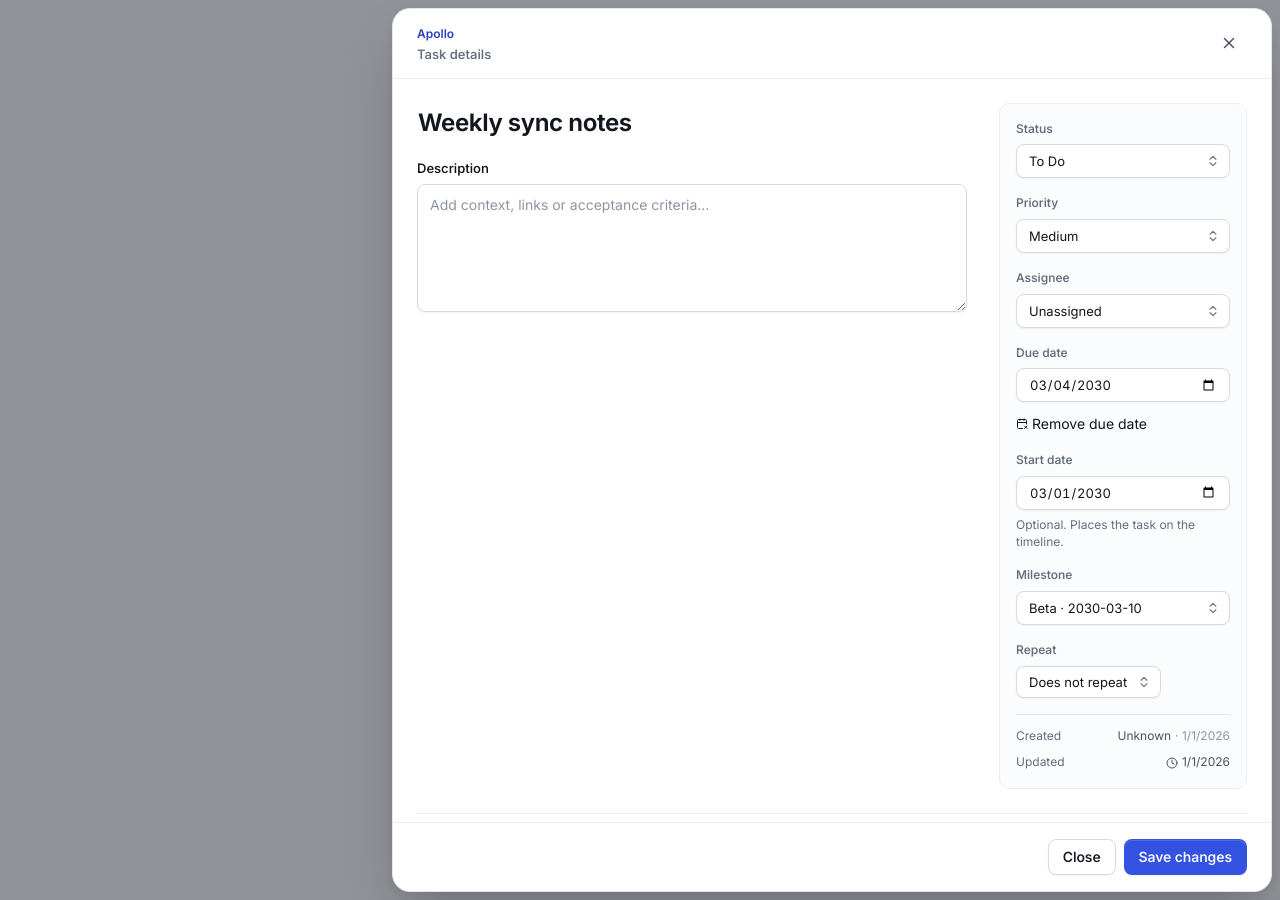
Test: TaskModal planning fields › checks dates before sending: due on or after start, and repeating tasks need a due date
In the date field labelled "Start date": {"x": 1123, "y": 493} x1=1016 y1=476 x2=1230 y2=510, type "2030-03-09"
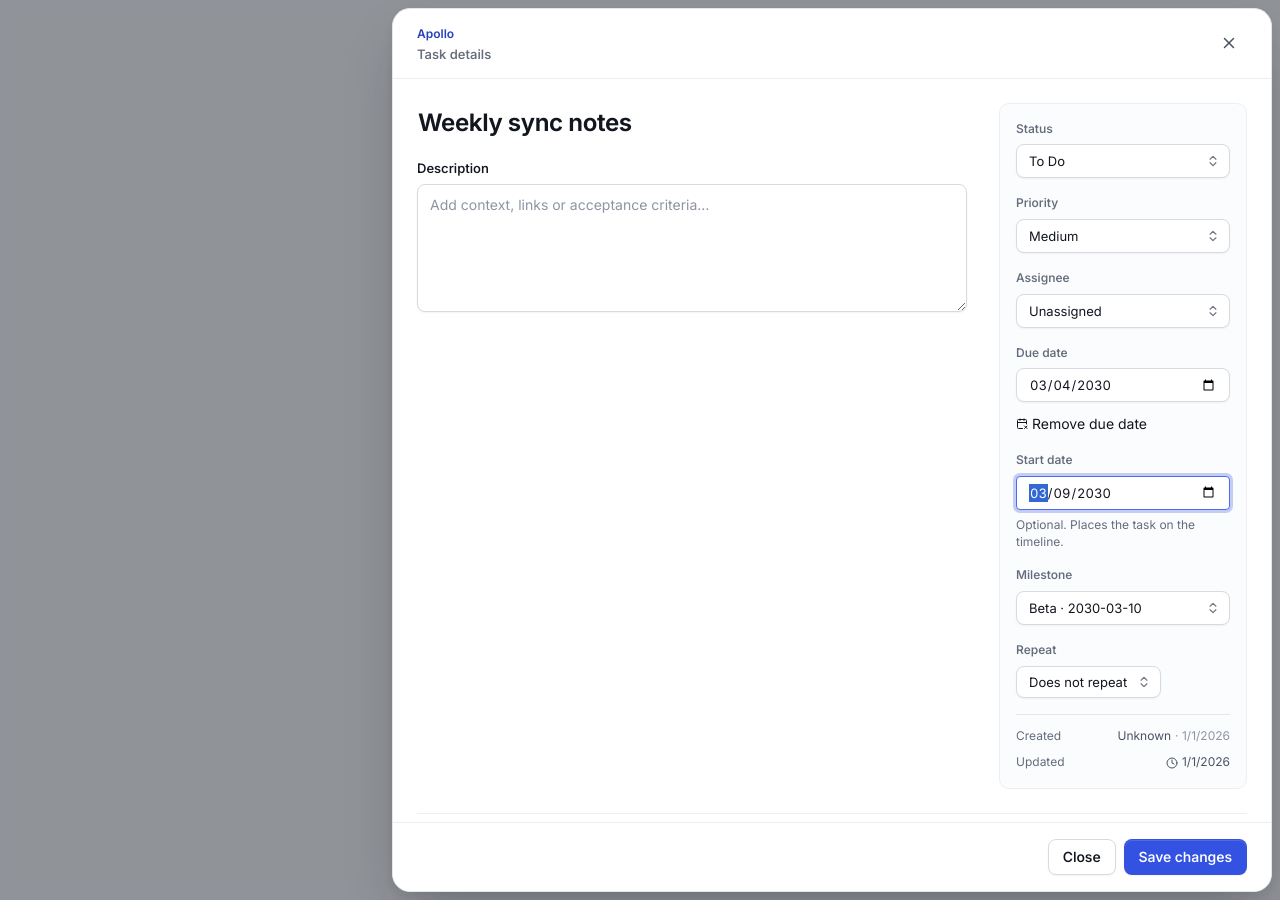
Click the button "Save changes": {"x": 1185, "y": 857} x1=1124 y1=839 x2=1247 y2=875
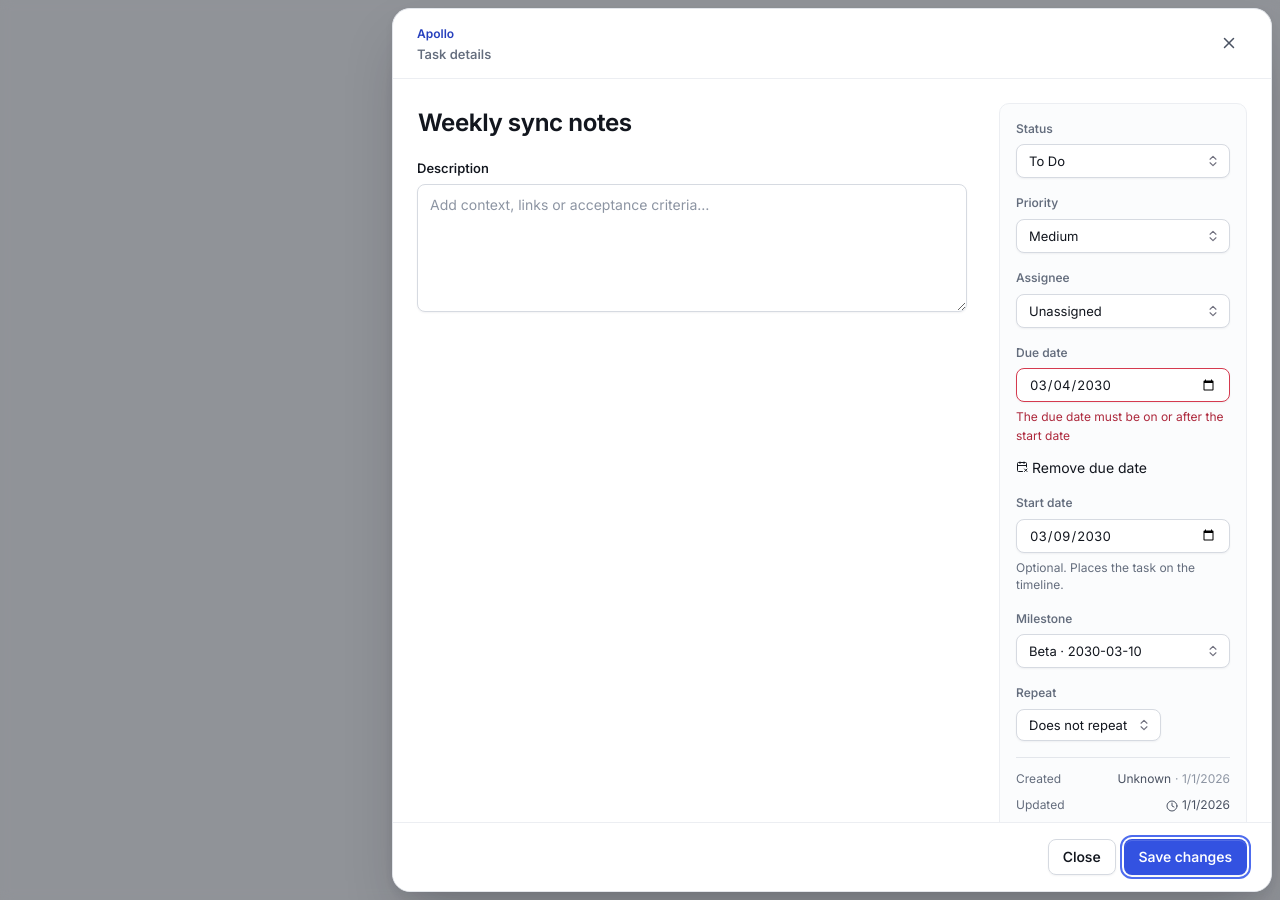
Expected: the text "The due date must be on or after the start date" is shown, x1=1016 y1=408 x2=1230 y2=445
